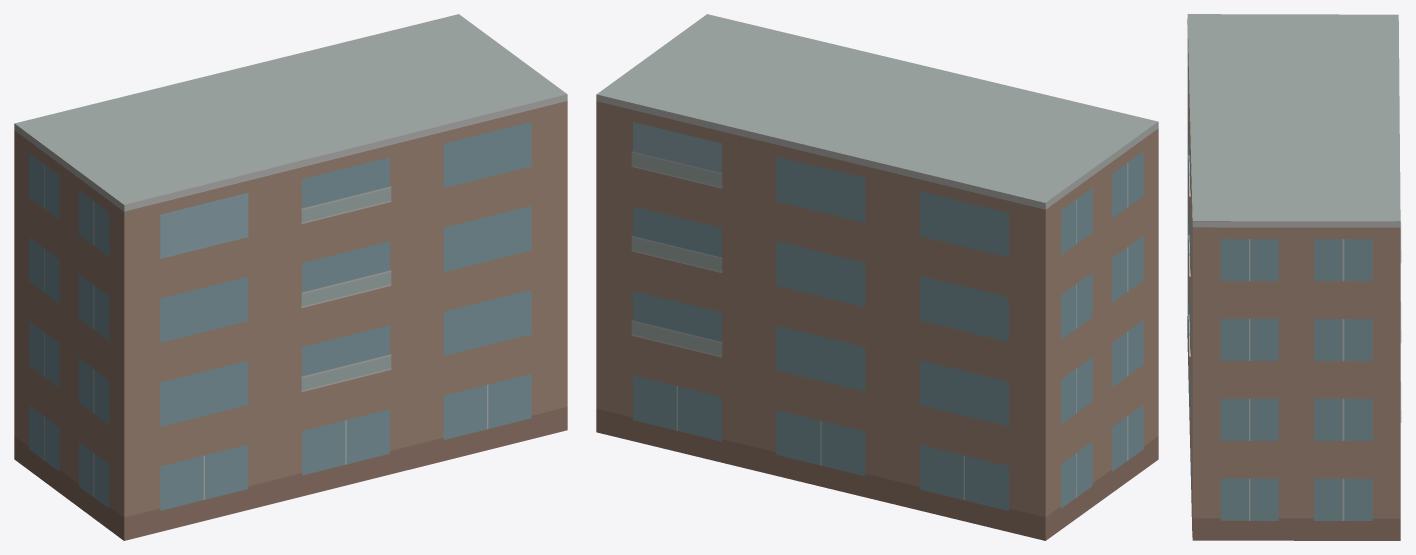
Rendered from survey-upis-32820333.glb.
3 renders of one model, left to right at view 1: azimuth 30°, elevation 25°; view 2: azimuth 150°, elevation 25°; view 3: azimuth 270°, elevation 25°, orthographic. The views are drawn at different scales.
Visible parts, largest first — view 1: survey-upis-32820333.tmp; view 2: survey-upis-32820333.tmp; view 3: survey-upis-32820333.tmp.
Boxes of the visible parts, <box> form: survey-upis-32820333.tmp: <box>14,14,567,540</box>; survey-upis-32820333.tmp: <box>596,14,1158,540</box>; survey-upis-32820333.tmp: <box>1187,14,1401,540</box>.
Size of the model in its own units: 16.99 by 12.2 by 7.41.
